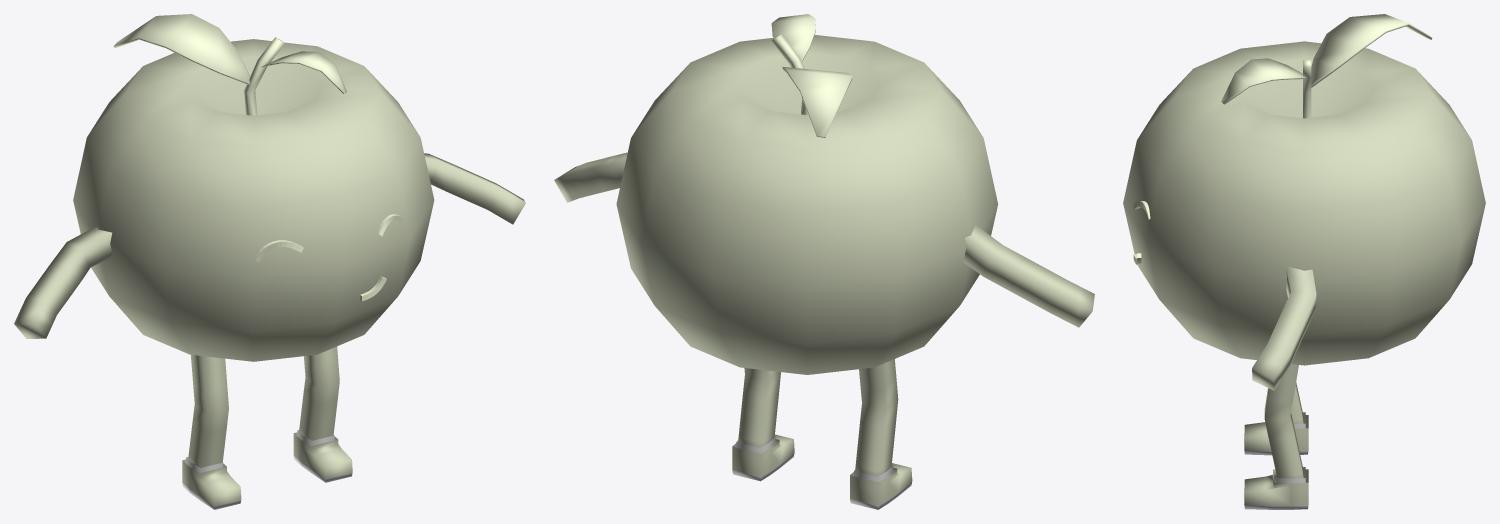
File: apple_GEO.fbx
3 views of the same model, side by side, from view 1: azimuth 30°, elevation 25°; view 2: azimuth 150°, elevation 25°; view 3: azimuth 270°, elevation 25° (orthographic). The views are drawn at different scales.
Parts seen in each view (by area): view 1: apple_GEO; view 2: apple_GEO; view 3: apple_GEO.
Part boxes in pixels (left/top/right/bottom): apple_GEO: left=14, top=14, right=525, bottom=509; apple_GEO: left=554, top=14, right=1094, bottom=509; apple_GEO: left=1123, top=14, right=1485, bottom=509.
Size of the model in its own units: 235 by 191 by 144.
